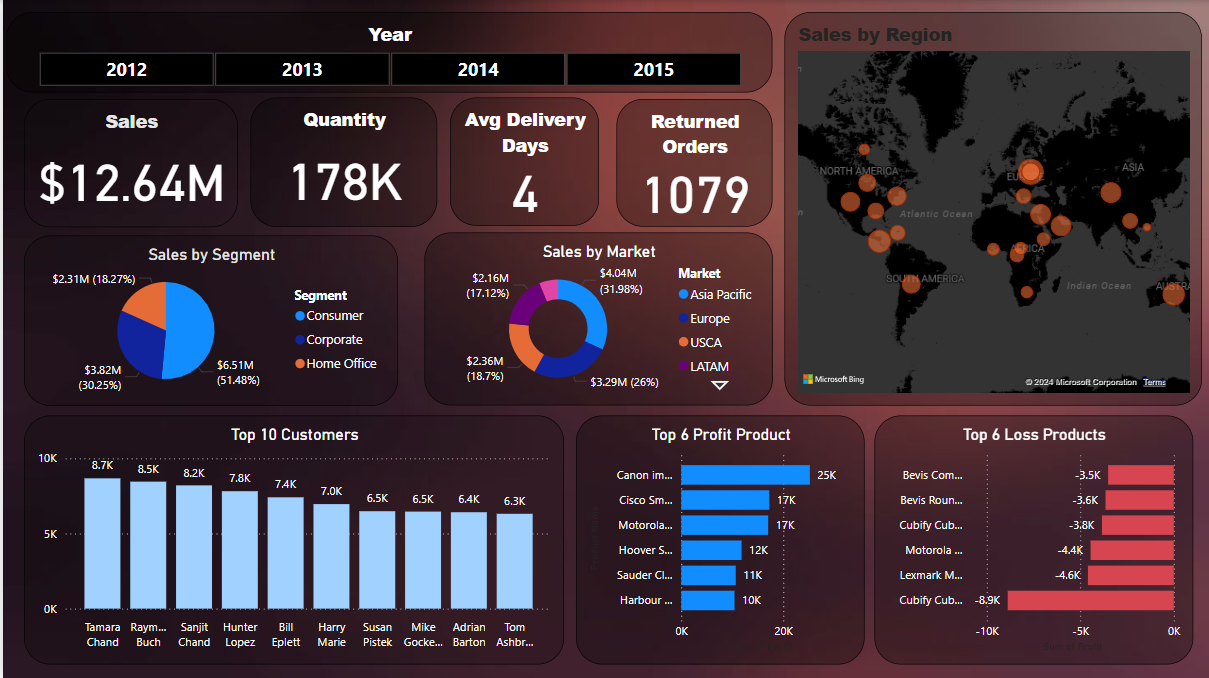

What the dashboard file says about the page in this screenshot:
{"tool":"powerbi","page":{"name":"Page 1","canvas":[1280,720],"ordinal":0},"visuals":[{"type":"card","title":"Sales","fields":{"Values":["Orders.Sales"]},"box":[22.9,104.9,226.7,136.3],"z":0},{"type":"card","title":"Quantity","fields":{"Values":["Orders.Quantity"]},"box":[261.7,103.7,197.8,137.5],"z":1000},{"type":"slicer","title":"Year","fields":{"Values":["Orders.Year"]},"box":[3.6,13.3,812.9,85.6],"z":2000},{"type":"card","title":"Returned Orders","fields":{"Values":["Returns.Returned Orders"]},"box":[651.3,104.9,165.2,135.1],"z":3000},{"type":"map","title":" Sales by Region","fields":{"Category":["Orders.Region"],"Size":["Orders.Sales"]},"box":[828.5,13.3,442.6,417.3],"z":4000},{"type":"card","title":"Avg Delivery Days","fields":{"Values":["Orders.Delivery Days"]},"box":[474,103.7,158,136.3],"z":5000},{"type":"clusteredBarChart","title":"Top 6 Profit Product","fields":{"Y":["Orders.Profit"],"Category":["Orders.Product Name"]},"box":[607.8,440.2,306.3,264.1],"z":6000},{"type":"clusteredBarChart","title":"Top 6 Loss Products","fields":{"Y":["Orders.Profit"],"Category":["Orders.Product Name"]},"box":[923.8,440.2,337.7,264.1],"z":7000},{"type":"pieChart","title":"Sales by Segment","fields":{"Category":["Orders.Segment"],"Y":["Orders.Sales"]},"box":[22.9,249.6,396.8,180.9],"z":8000},{"type":"donutChart","title":"Sales by Market","fields":{"Y":["Orders.Sales"],"Category":["Orders.Market"]},"box":[447.4,247.2,369,183.3],"z":9000},{"type":"columnChart","title":"Top 10 Customers","fields":{"Y":["Orders.Profit"],"Category":["Orders.Customer Name"]},"box":[22.9,440.2,572.9,264.1],"z":10000}]}

Visuals, with their boxes in screenshot pixels (x1, y1, x2, y2), scaled from the page's 1280x720 canvas onto the 1209x678 screenshot:
"Sales" card: <region>22, 99, 236, 227</region>
"Quantity" card: <region>247, 98, 434, 227</region>
"Year" slicer: <region>3, 13, 771, 93</region>
"Returned Orders" card: <region>615, 99, 771, 226</region>
" Sales by Region" map: <region>783, 13, 1201, 405</region>
"Avg Delivery Days" card: <region>448, 98, 597, 226</region>
"Top 6 Profit Product" clusteredBarChart: <region>574, 415, 863, 663</region>
"Top 6 Loss Products" clusteredBarChart: <region>873, 415, 1192, 663</region>
"Sales by Segment" pieChart: <region>22, 235, 396, 405</region>
"Sales by Market" donutChart: <region>423, 233, 771, 405</region>
"Top 10 Customers" columnChart: <region>22, 415, 563, 663</region>
